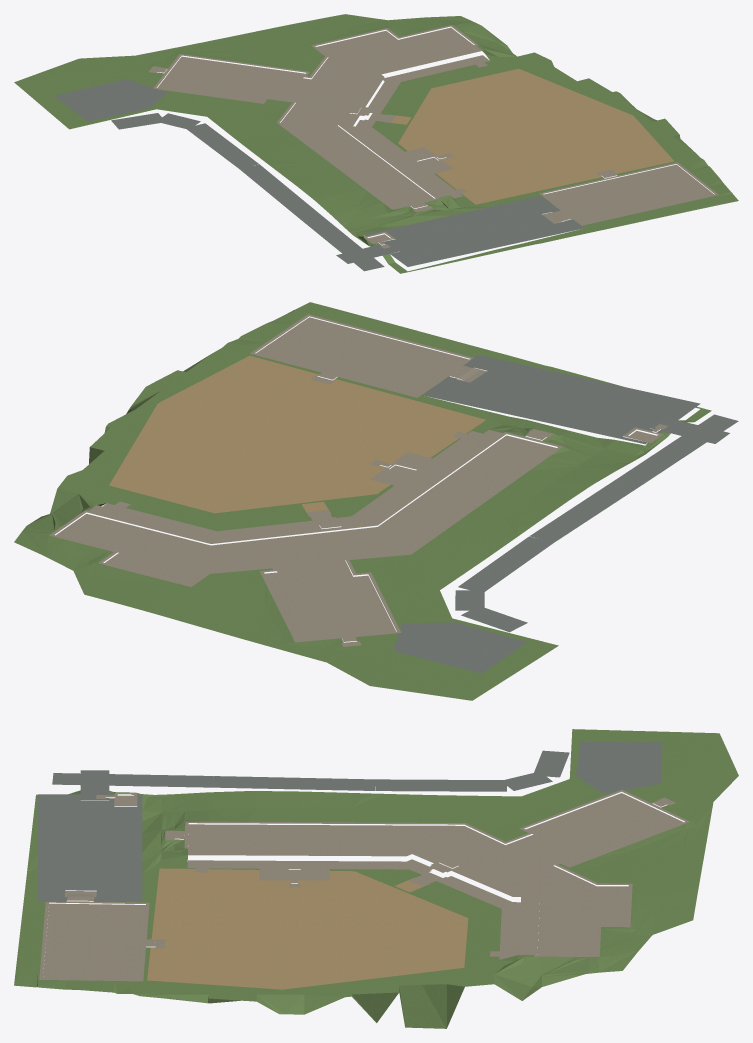
The picture shows the model from 3 angles, top to bottom: view 1: azimuth 30°, elevation 25°; view 2: azimuth 150°, elevation 25°; view 3: azimuth 270°, elevation 25°; orthographic projection. The views are drawn at different scales.
Parts seen in each view (by area): view 1: surface_school-garden-ground, surface_dirt-playing-field, surface_underbuilding-main, surface_south-gym-parking-yard, surface_underbuilding-gym, surface_north-west-parking, surface_main-exterior-strip, surface_west-access-drive-1, surface_main-front-apron-0, surface_west-access-drive-0, surface_west-access-drive-2, surface_main-front-apron-2 (+8 smaller); view 2: surface_school-garden-ground, surface_dirt-playing-field, surface_underbuilding-main, surface_south-gym-parking-yard, surface_underbuilding-gym, surface_north-west-parking, surface_main-exterior-strip, surface_west-access-drive-1, surface_main-front-apron-0, surface_west-access-drive-0, surface_west-access-drive-2, surface_main-front-apron-1 (+6 smaller); view 3: surface_school-garden-ground, surface_dirt-playing-field, surface_underbuilding-main, surface_south-gym-parking-yard, surface_underbuilding-gym, surface_north-west-parking, surface_main-exterior-strip, surface_west-access-drive-1, surface_main-front-apron-0, surface_stand-base-0, surface_west-access-drive-0, surface_west-access-drive-2 (+9 smaller).
Boxes of the visible parts, <box> form: surface_school-garden-ground: <box>14,14,738,273</box>; surface_dirt-playing-field: <box>398,68,674,204</box>; surface_underbuilding-main: <box>157,27,473,208</box>; surface_south-gym-parking-yard: <box>364,196,584,266</box>; surface_underbuilding-gym: <box>544,164,713,224</box>; surface_north-west-parking: <box>55,79,167,121</box>; surface_main-exterior-strip: <box>153,25,478,209</box>; surface_west-access-drive-1: <box>239,164,321,220</box>; surface_main-front-apron-0: <box>338,124,448,198</box>; surface_west-access-drive-0: <box>302,216,384,271</box>; surface_west-access-drive-2: <box>187,123,258,168</box>; surface_main-front-apron-2: <box>374,45,482,74</box>; surface_school-garden-ground: <box>14,302,711,700</box>; surface_dirt-playing-field: <box>109,355,485,513</box>; surface_underbuilding-main: <box>56,435,556,640</box>; surface_south-gym-parking-yard: <box>423,355,700,444</box>; surface_underbuilding-gym: <box>256,317,469,395</box>; surface_north-west-parking: <box>393,622,526,673</box>; surface_main-exterior-strip: <box>49,432,562,642</box>; surface_west-access-drive-1: <box>529,475,646,542</box>; surface_main-front-apron-0: <box>371,429,505,525</box>; surface_west-access-drive-0: <box>623,414,738,481</box>; surface_west-access-drive-2: <box>458,536,553,591</box>; surface_main-front-apron-1: <box>211,517,377,543</box>; surface_school-garden-ground: <box>14,729,738,1028</box>; surface_dirt-playing-field: <box>147,868,468,989</box>; surface_underbuilding-main: <box>188,793,683,955</box>; surface_south-gym-parking-yard: <box>38,794,142,901</box>; surface_underbuilding-gym: <box>43,903,145,979</box>; surface_north-west-parking: <box>576,741,662,793</box>; surface_main-exterior-strip: <box>184,789,689,956</box>; surface_west-access-drive-1: <box>212,776,375,790</box>; surface_main-front-apron-0: <box>188,847,424,856</box>; surface_stand-base-0: <box>187,860,408,869</box>; surface_west-access-drive-0: <box>52,773,213,787</box>; surface_west-access-drive-2: <box>375,779,506,791</box>.
Bounding box in the file's own units: 134 × 11.03 × 152.
Materials: 4 (4 with a texture image).
